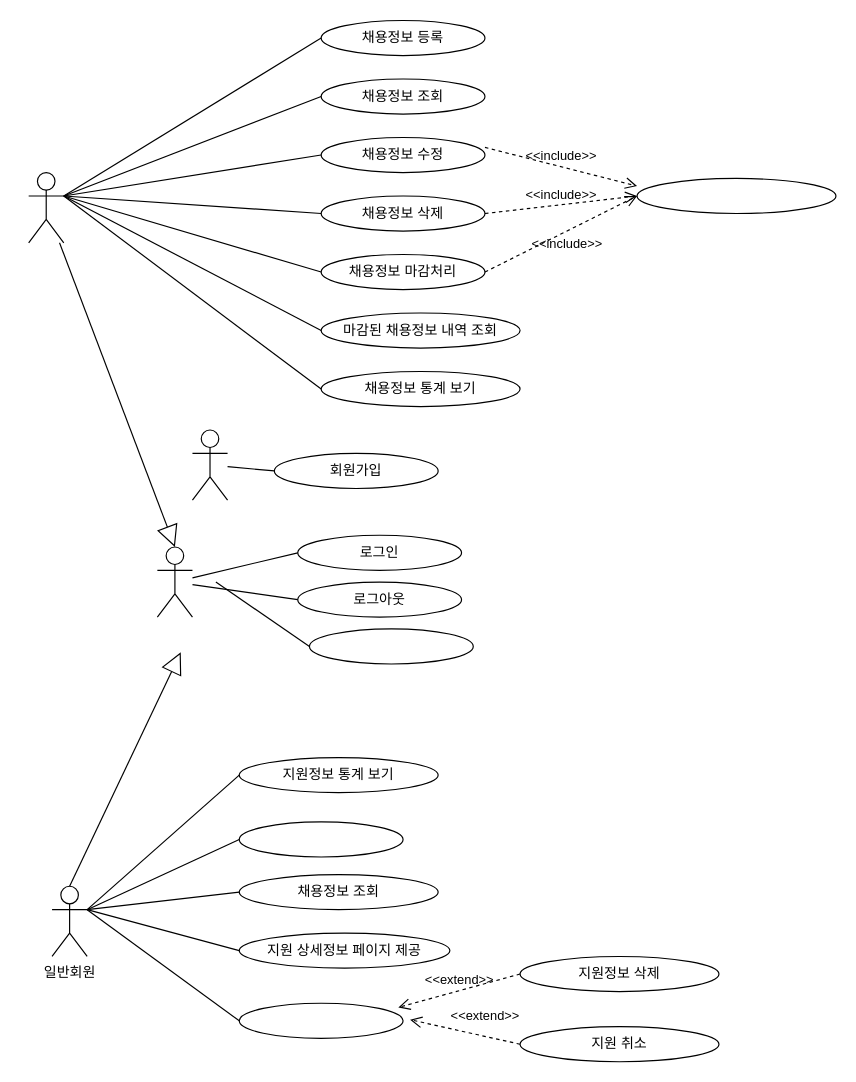
The diagram is 856 pixels wide and 1082 high, and some of its shapes have lost their labels. Here are the shapes that lost their labels. From the top down, the centre of each, then its label:
At point 45,207: "회사회원".
At point 736,195: "채용 상세정보 페이지 제공".
At point 209,464: "비회원".
At point 174,581: "회원".
At point 390,646: "회원탈퇴".
At point 320,839: "지원".
At point 320,1020: "지원정보 조회".
